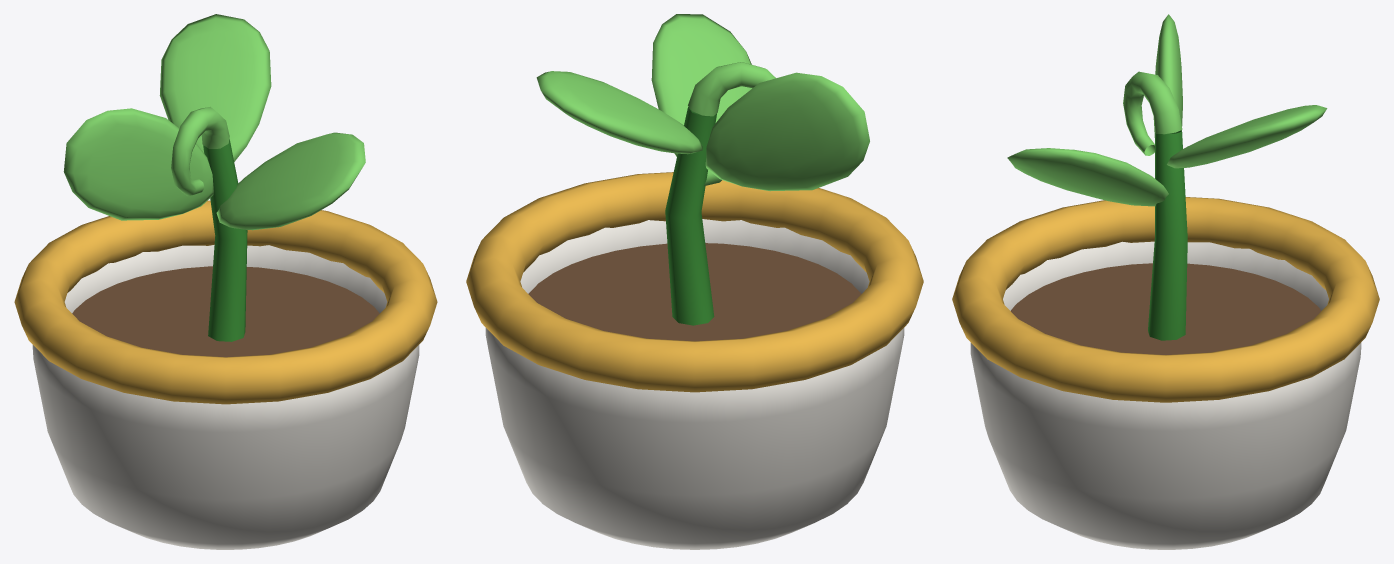
File: gardener-pot.fit.glb
3 renders of one model, left to right at view 1: azimuth 30°, elevation 25°; view 2: azimuth 150°, elevation 25°; view 3: azimuth 270°, elevation 25°, orthographic. The views are drawn at different scales.
Parts seen in each view (by area): view 1: gardener-pot; view 2: gardener-pot; view 3: gardener-pot.
Part boxes in pixels (x1,y1,x2,y2): gardener-pot: (14,14,437,549); gardener-pot: (466,14,923,549); gardener-pot: (952,14,1379,549).
Size of the model in its own units: 0.3332 by 0.36 by 0.3332.
